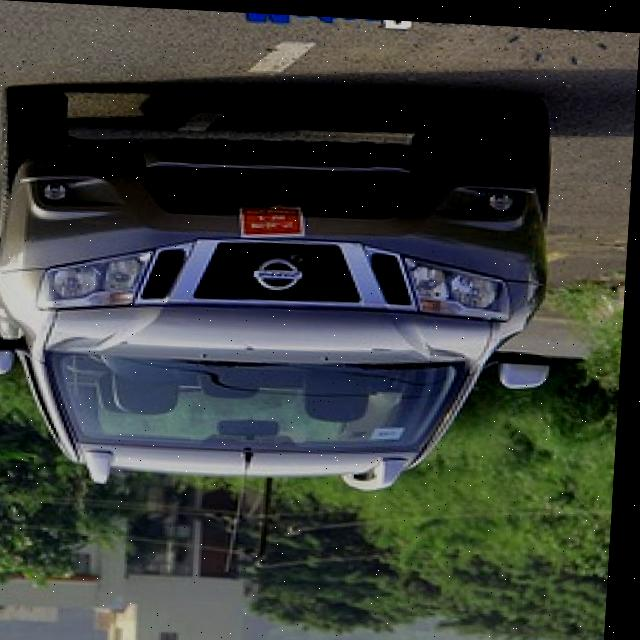plate: (236, 200, 309, 239)
